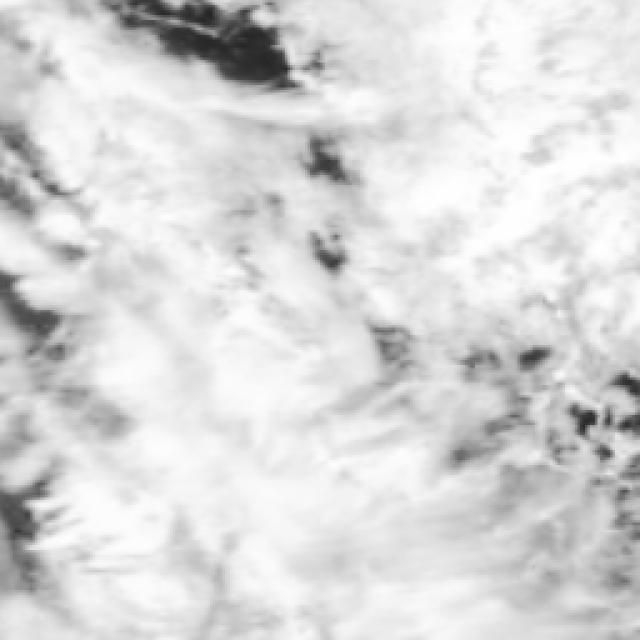CB: (382, 151, 640, 331), (270, 425, 483, 640), (59, 443, 259, 634), (18, 58, 199, 258), (88, 258, 276, 441), (332, 9, 506, 186), (462, 0, 639, 172), (482, 462, 638, 640)
